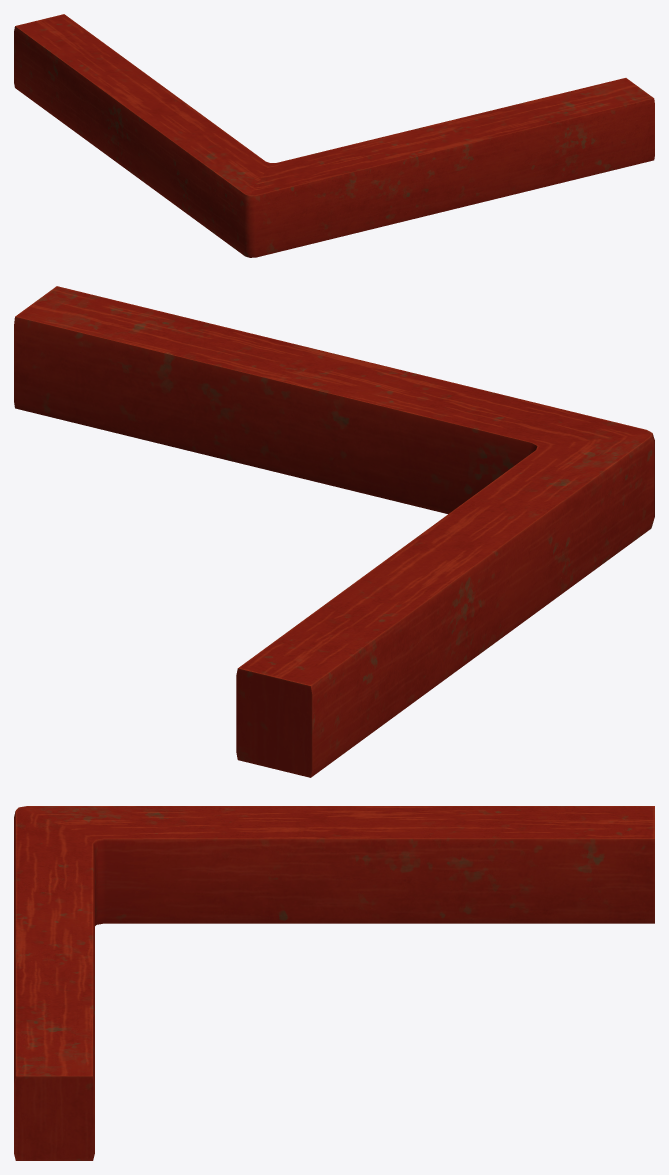
Rendered from SM_Beam_Angle.glb.
3 renders of one model, top to bottom at view 1: azimuth 30°, elevation 25°; view 2: azimuth 150°, elevation 25°; view 3: azimuth 270°, elevation 25°, orthographic. The views are drawn at different scales.
Parts seen in each view (by area): view 1: SM_Beam_Angle; view 2: SM_Beam_Angle; view 3: SM_Beam_Angle.
Boxes of the visible parts, x1,y1,x2,y2 form: SM_Beam_Angle: [14, 14, 654, 257]; SM_Beam_Angle: [14, 286, 654, 777]; SM_Beam_Angle: [14, 806, 654, 1160].
Bounding box in the file's own units: 1.37 × 0.2 × 1.37.
1 material, 1 textured.
